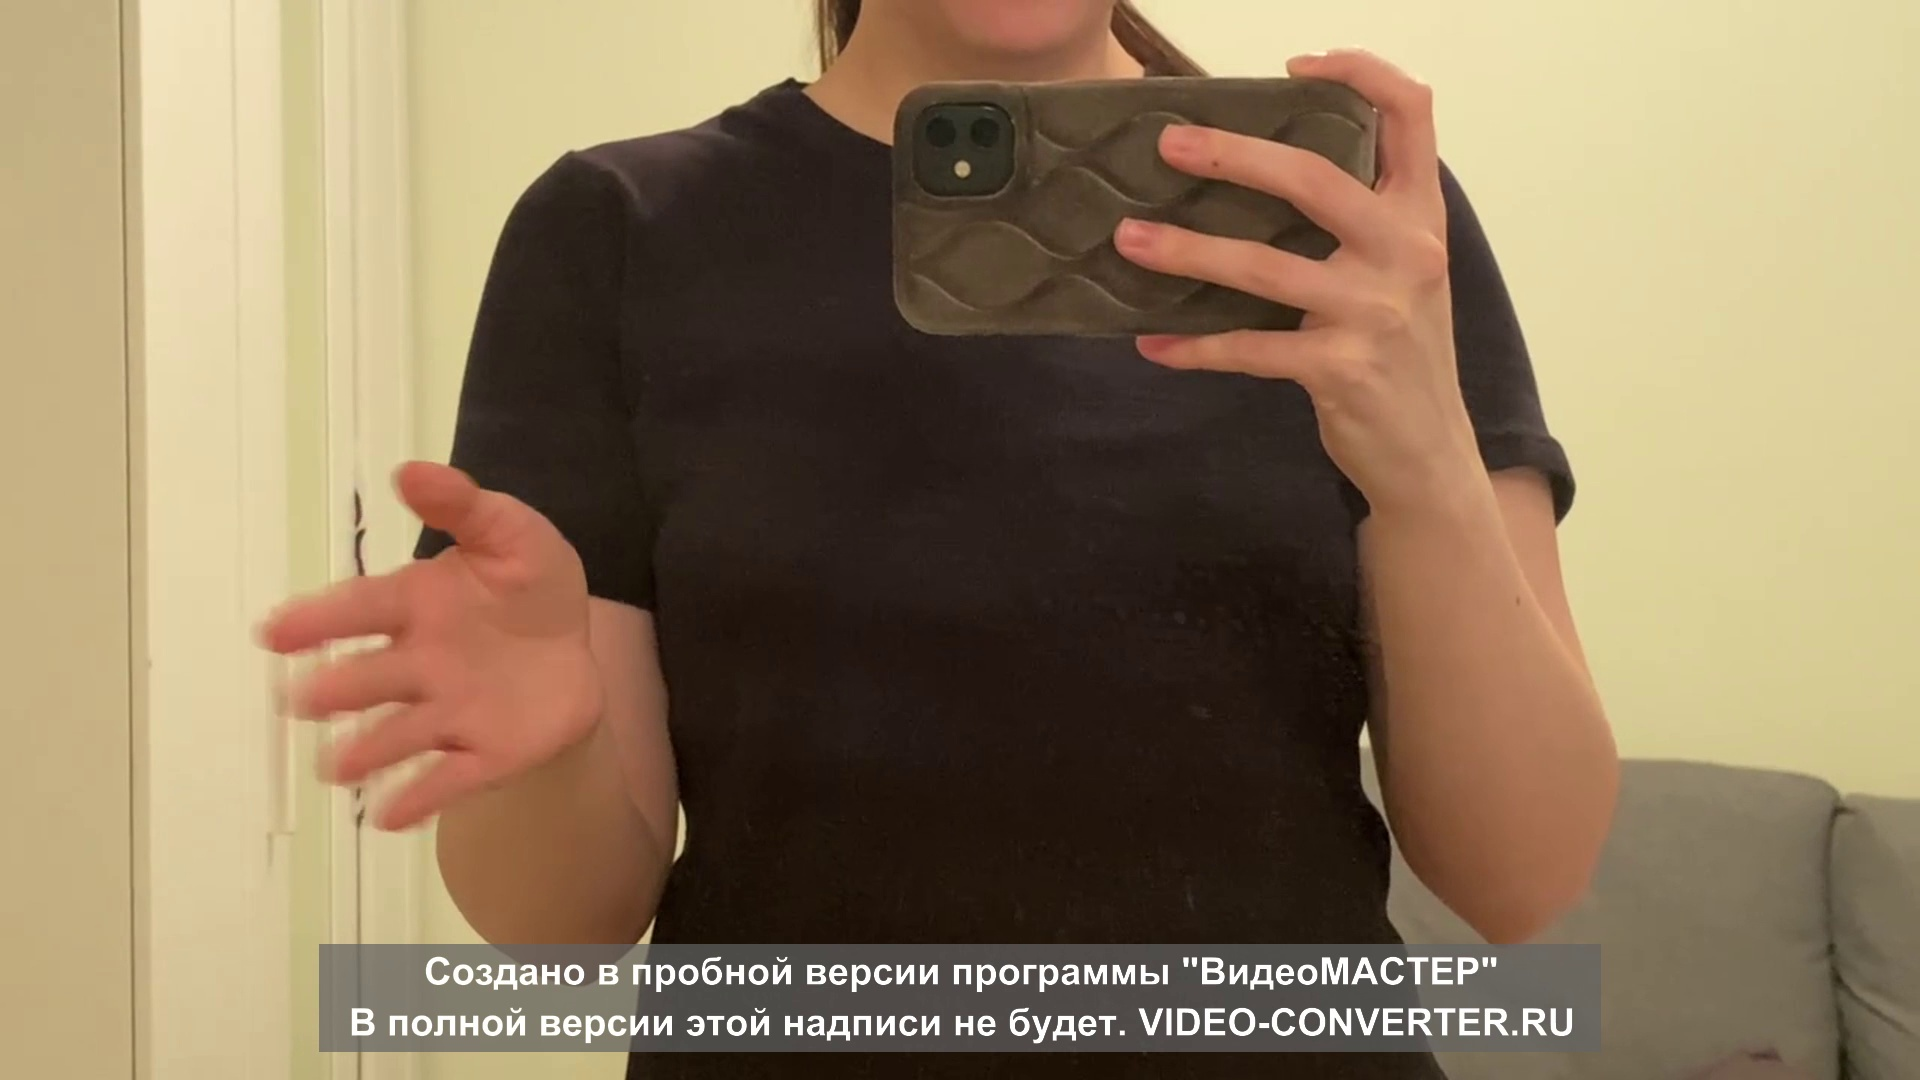Ладонь: (253, 456, 603, 829)
